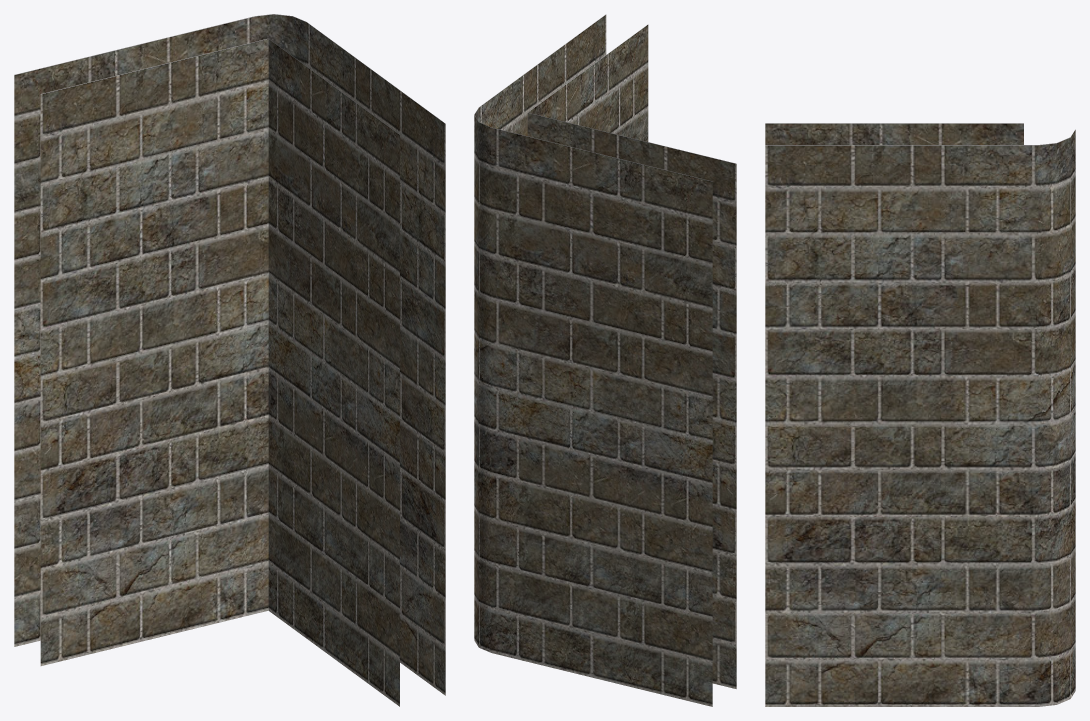
File: ARC1010225.fbx
The picture shows the model from 3 angles, left to right: view 1: azimuth 30°, elevation 25°; view 2: azimuth 150°, elevation 25°; view 3: azimuth 270°, elevation 25°; orthographic projection. The views are drawn at different scales.
Visible parts, largest first — view 1: smARC1010225; view 2: smARC1010225; view 3: smARC1010225.
Boxes of the visible parts, left/top/right/bottom form: smARC1010225: left=14, top=14, right=445, bottom=706; smARC1010225: left=474, top=14, right=736, bottom=706; smARC1010225: left=765, top=123, right=1075, bottom=706.
Bounding box in the file's own units: 134 × 268 × 134.
Materials: 1 (1 with a texture image).
